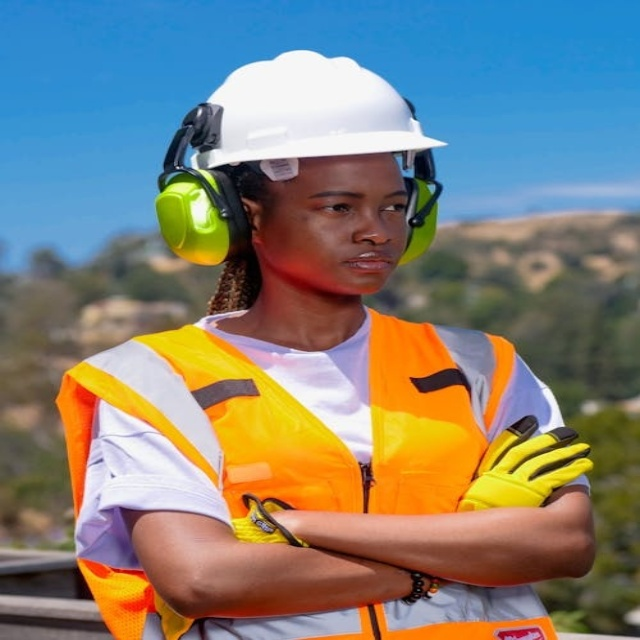Guantes: (456, 419, 593, 510), (233, 494, 310, 546)
Sin_gafas: (280, 188, 408, 218)
Sin_mascara: (329, 249, 397, 283)
